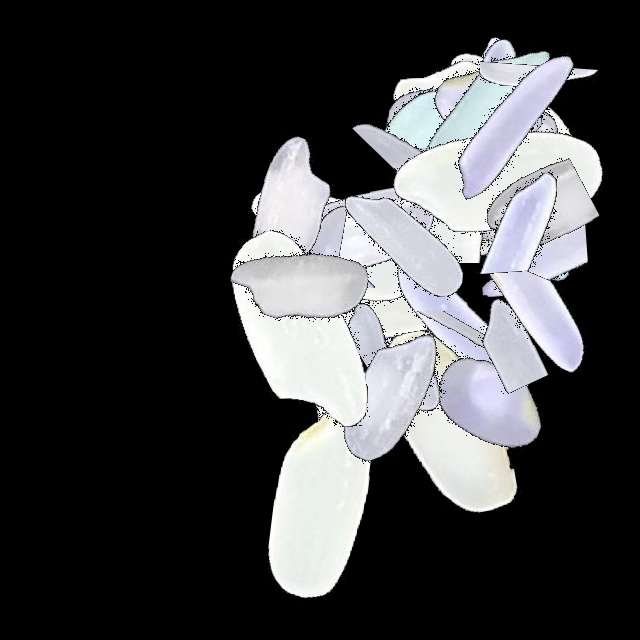Broken: (336, 0, 586, 172), (390, 145, 640, 300), (390, 142, 640, 289), (379, 268, 629, 415), (423, 194, 568, 444), (406, 44, 550, 294), (390, 181, 640, 324), (300, 277, 550, 404), (313, 60, 563, 187), (443, 83, 570, 333), (353, 136, 603, 262), (152, 188, 402, 312), (378, 280, 501, 530), (356, 142, 606, 263), (480, 0, 599, 250), (338, 320, 588, 436), (302, 311, 552, 426), (390, 87, 640, 193), (250, 191, 500, 288), (289, 52, 539, 148), (336, 289, 586, 367)
Full: (377, 0, 627, 250), (209, 286, 459, 536), (241, 183, 491, 433), (196, 379, 446, 629), (246, 115, 496, 365), (322, 234, 572, 484), (381, 0, 631, 250), (278, 154, 528, 404), (233, 174, 483, 424), (362, 36, 612, 286), (357, 0, 607, 250), (390, 63, 640, 313), (325, 0, 575, 250), (214, 111, 464, 361), (390, 3, 640, 253), (364, 0, 614, 250), (340, 197, 590, 447), (390, 83, 640, 333), (353, 0, 603, 250), (325, 297, 575, 547), (364, 278, 614, 528), (236, 108, 486, 358), (277, 122, 527, 372), (374, 56, 624, 306), (268, 271, 518, 521), (167, 81, 417, 331), (175, 202, 425, 452), (174, 160, 424, 410), (390, 0, 640, 250)
